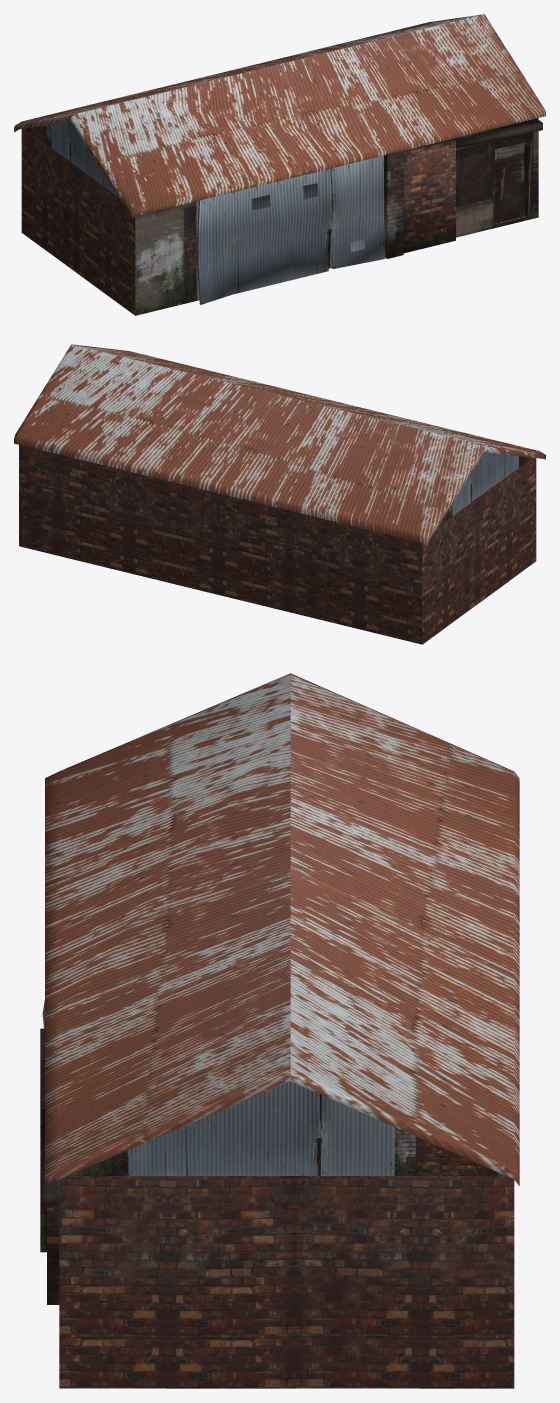
Rendered from industrial14.obj.
3 renders of one model, top to bottom at view 1: azimuth 30°, elevation 25°; view 2: azimuth 150°, elevation 25°; view 3: azimuth 270°, elevation 25°, orthographic. The views are drawn at different scales.
Visible parts, largest first — view 1: industrial14; view 2: industrial14; view 3: industrial14.
Boxes of the visible parts, box(x1,y1,x2,y2) form: industrial14: box(14, 14, 545, 315); industrial14: box(14, 344, 545, 644); industrial14: box(40, 673, 519, 1388).
Size of the model in its own units: 495 by 185 by 249.
1 material, 1 textured.
